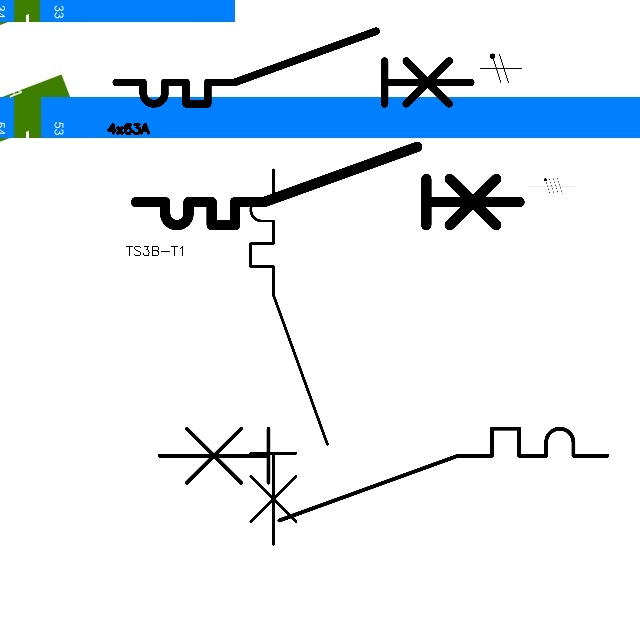interruptor_termomagnetico: (148, 417, 619, 532), (126, 137, 529, 235), (241, 160, 337, 554), (107, 22, 480, 113)
